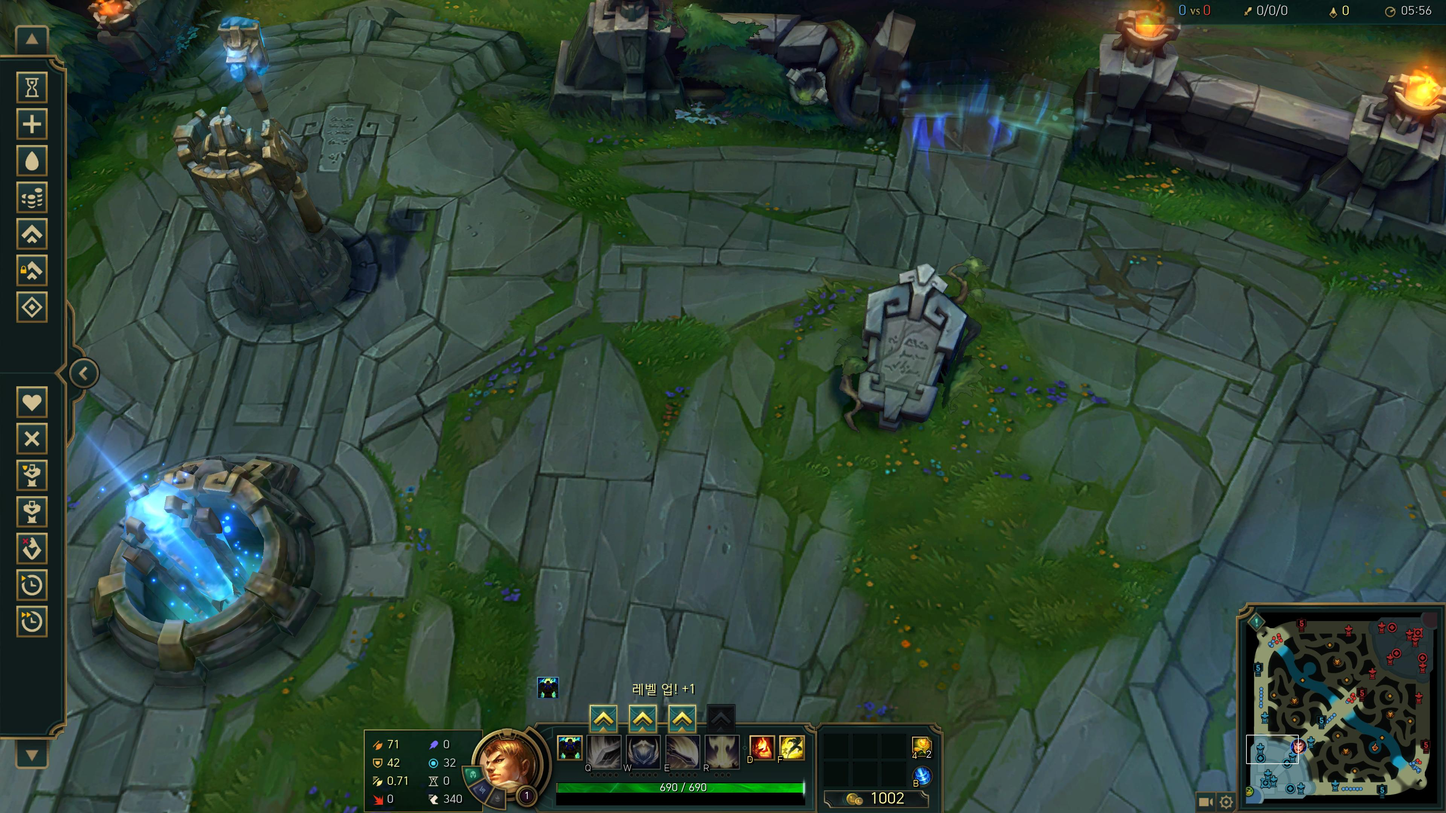ally-inhibitor: (75, 455, 351, 712)
ally-tower: (172, 17, 379, 345)
